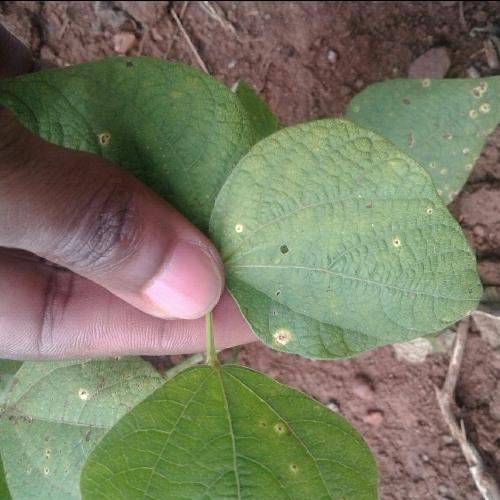hawar: (232, 218, 322, 368), (70, 93, 143, 199), (238, 404, 318, 494), (65, 381, 135, 446), (371, 218, 421, 282)
